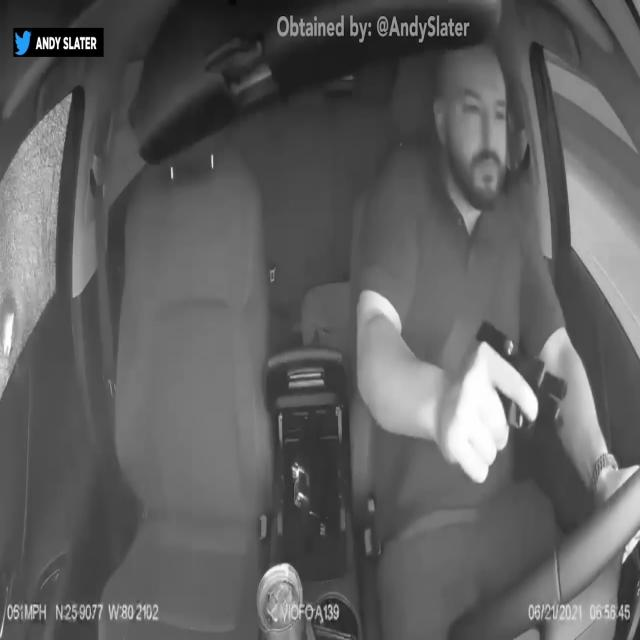senjata_api: (474, 318, 569, 436)
